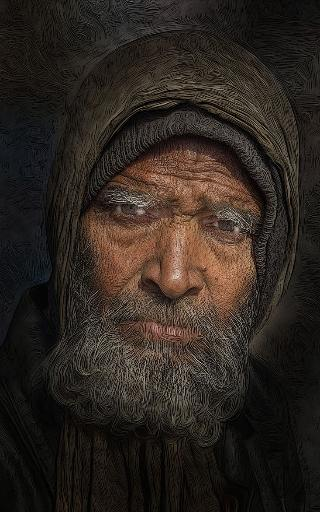left_eye: (209, 218, 248, 236)
left_lip_corner: (182, 321, 203, 335)
right_eye: (113, 202, 152, 219)
right_lip_corner: (125, 314, 143, 328)
